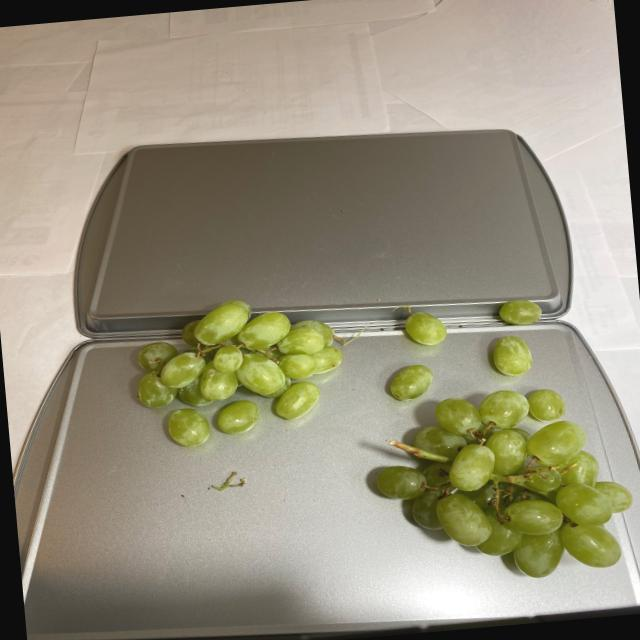grapes: (357, 282, 634, 593), (122, 292, 356, 453)
